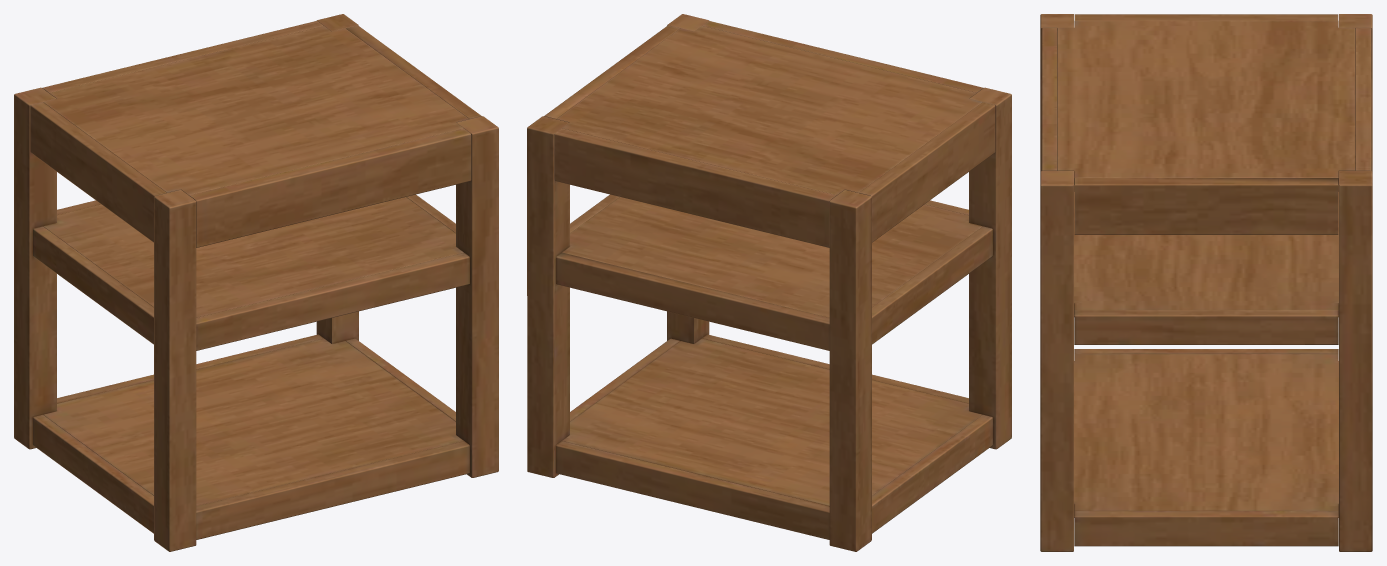
Rendered from side_table_01.glb.
3 renders of one model, left to right at view 1: azimuth 30°, elevation 25°; view 2: azimuth 150°, elevation 25°; view 3: azimuth 270°, elevation 25°, orthographic. The views are drawn at different scales.
Visible parts, largest first — view 1: side_table_01; view 2: side_table_01; view 3: side_table_01.
Boxes of the visible parts, x1,y1,x2,y2 form: side_table_01: (14, 14, 498, 551); side_table_01: (527, 14, 1011, 551); side_table_01: (1040, 14, 1372, 551).
Bounding box in the file's own units: 0.55 × 0.5507 × 0.45.
1 material, 1 textured.
